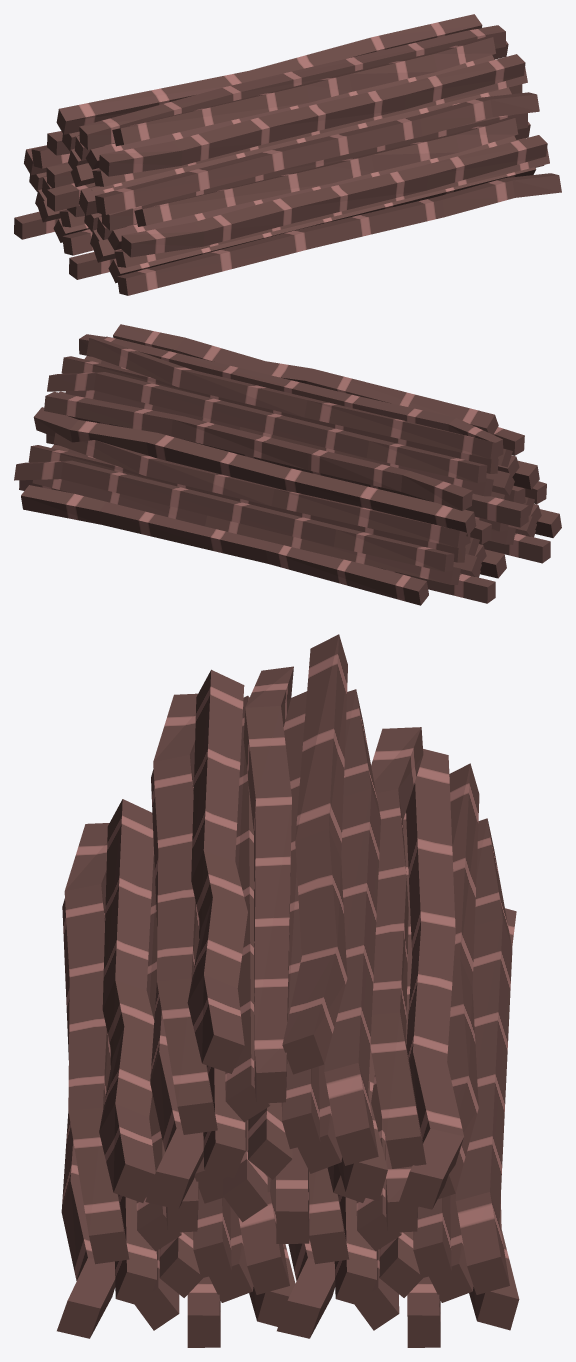
Rendered from SM_Prop_SugarCane_Pile_02.glb.
3 views of the same model, one above another, from view 1: azimuth 30°, elevation 25°; view 2: azimuth 150°, elevation 25°; view 3: azimuth 270°, elevation 25° (orthographic). The views are drawn at different scales.
Parts seen in each view (by area): view 1: SM_Prop_SugarCane_Pile_02_part00; view 2: SM_Prop_SugarCane_Pile_02_part00; view 3: SM_Prop_SugarCane_Pile_02_part00.
Boxes of the visible parts, bbox=[...] form: SM_Prop_SugarCane_Pile_02_part00: bbox=[14, 14, 561, 295]; SM_Prop_SugarCane_Pile_02_part00: bbox=[14, 324, 561, 605]; SM_Prop_SugarCane_Pile_02_part00: bbox=[57, 634, 519, 1347].
Bounding box in the file's own units: 2.04 × 0.5923 × 0.8751.
1 material, 1 textured.
